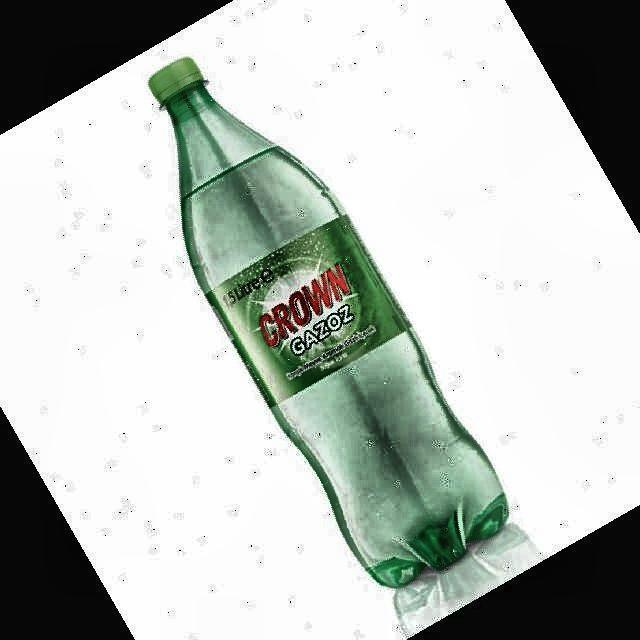plastic: (150, 59, 508, 587)
